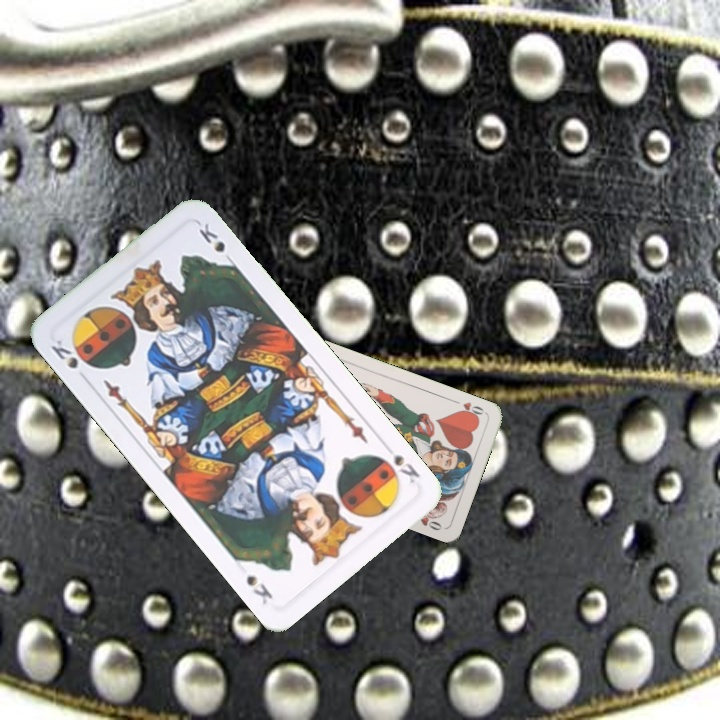HO: (449, 396, 488, 421)
SK: (379, 439, 423, 486), (47, 335, 95, 372)
